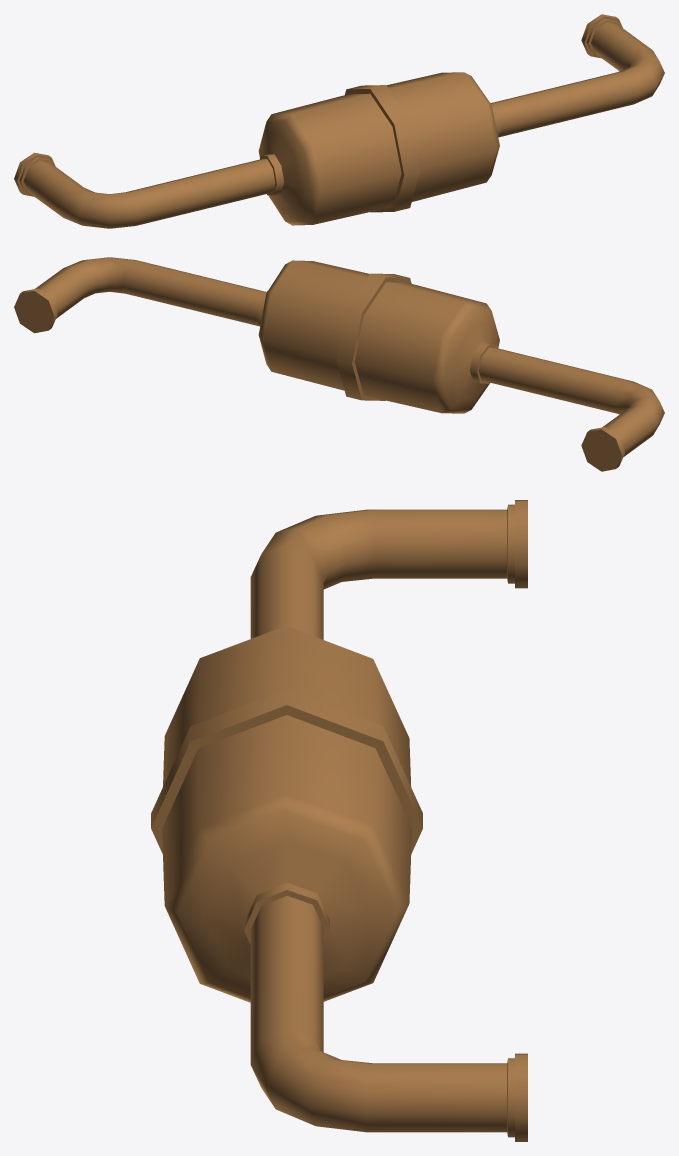
The model's file is SP_House02_Pipe02.fbx.
3 renders of one model, top to bottom at view 1: azimuth 30°, elevation 25°; view 2: azimuth 150°, elevation 25°; view 3: azimuth 270°, elevation 25°, orthographic. The views are drawn at different scales.
Visible parts, largest first — view 1: SP_House02_Pipe02; view 2: SP_House02_Pipe02; view 3: SP_House02_Pipe02.
Boxes of the visible parts, x1=… form: SP_House02_Pipe02: x1=14, y1=14, x2=664, y2=228; SP_House02_Pipe02: x1=14, y1=257, x2=664, y2=471; SP_House02_Pipe02: x1=151, y1=500, x2=527, y2=1141.
Bounding box in the file's own units: 5.72 × 1.11 × 1.53.
